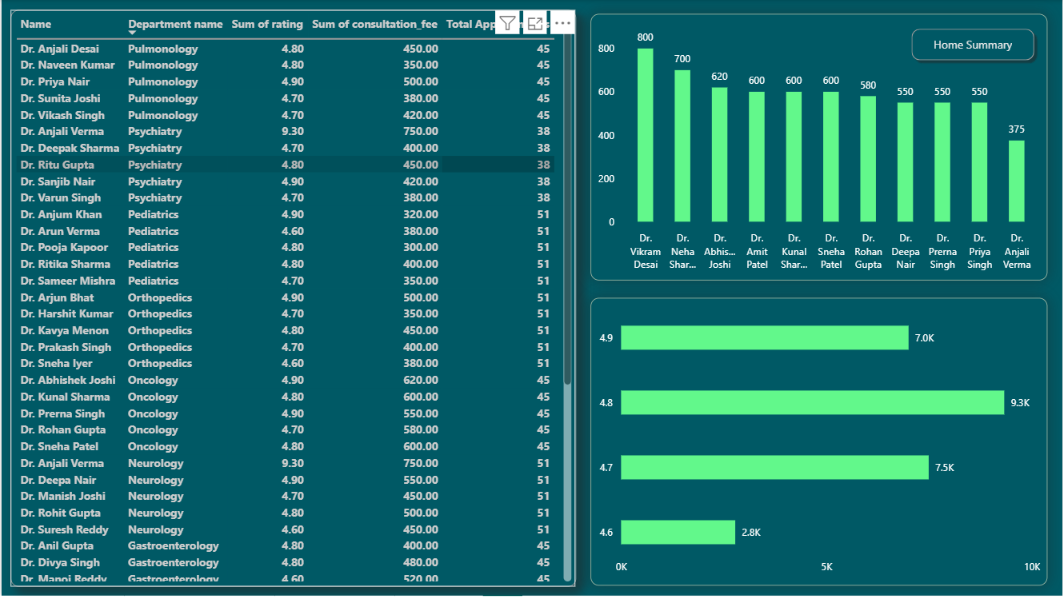

Layout of this report page (visuals, bound fields, positions):
{"tool":"powerbi","page":{"name":"Doctor Performance","canvas":[1280,720],"ordinal":1},"visuals":[{"type":"tableEx","fields":{"Values":["sql12830320 doctors.name","sql12830320 departments.name","Sum(sql12830320 doctors.rating)","Sum(sql12830320 doctors.consultation_fee)","sql12830320 appointments.Total Appointments"]},"box":[10.4,11.9,682.6,696],"z":0},{"type":"clusteredColumnChart","fields":{"Category":["sql12830320 doctors.name"],"Y":["Avg(sql12830320 doctors.consultation_fee)"]},"box":[710.9,16.4,551.5,321.9],"z":1000},{"type":"barChart","fields":{"Y":["Sum(sql12830320 doctors.consultation_fee)"],"Category":["sql12830320 doctors.rating"]},"box":[710.9,359.2,551.5,347.3],"z":2000},{"type":"pageNavigator","box":[1091.6,28.4,160,50.3],"z":5000}]}

Visuals, with their boxes in screenshot pixels (x1, y1, x2, y2), scaled from the page's 1280x720 canvas onto the 1063x597 screenshot:
tableEx - sql12830320 doctors.name x sql12830320 departments.name: (9, 10, 576, 587)
clusteredColumnChart - sql12830320 doctors.name x Avg(sql12830320 doctors.consultation_fee): (590, 14, 1048, 281)
barChart - Sum(sql12830320 doctors.consultation_fee) x sql12830320 doctors.rating: (590, 298, 1048, 586)
pageNavigator: (907, 24, 1039, 65)
